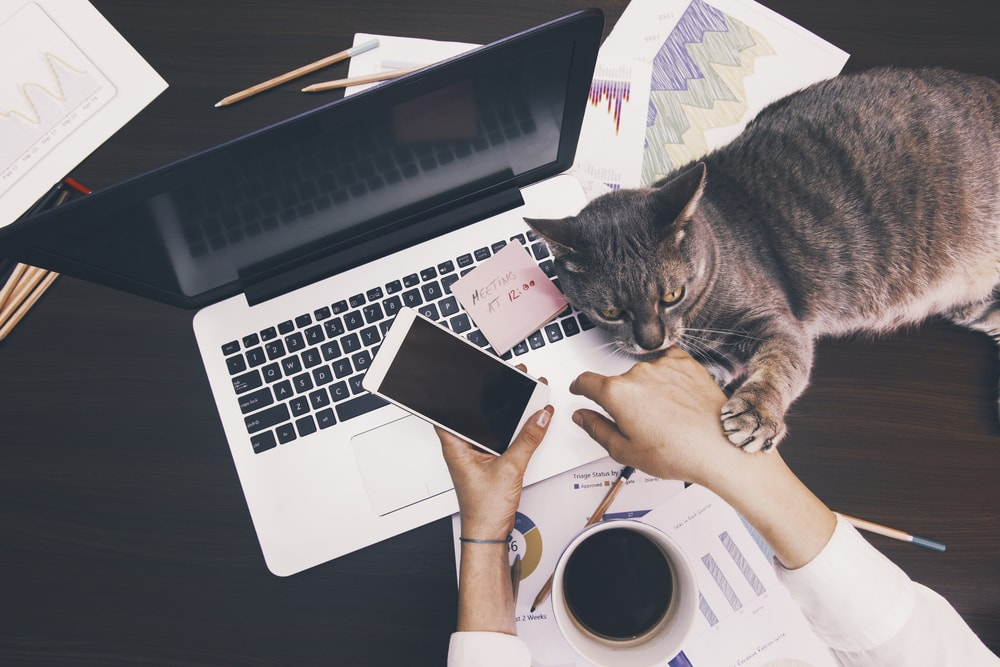cat: (535, 59, 990, 446)
laptop: (5, 18, 723, 584)
